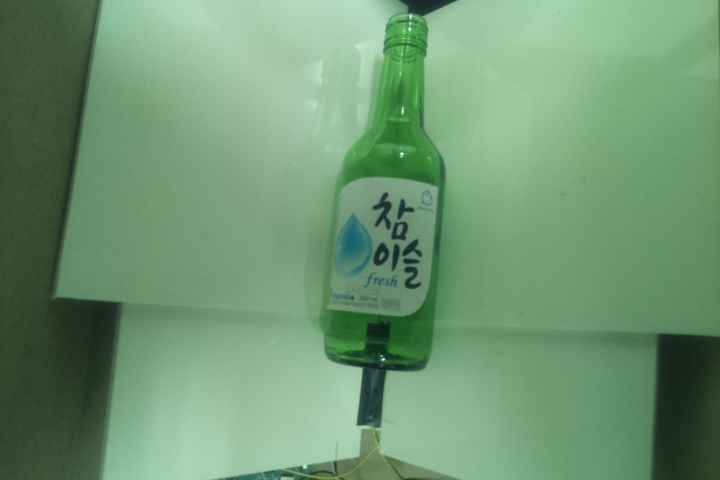soju: (322, 12, 445, 371)
